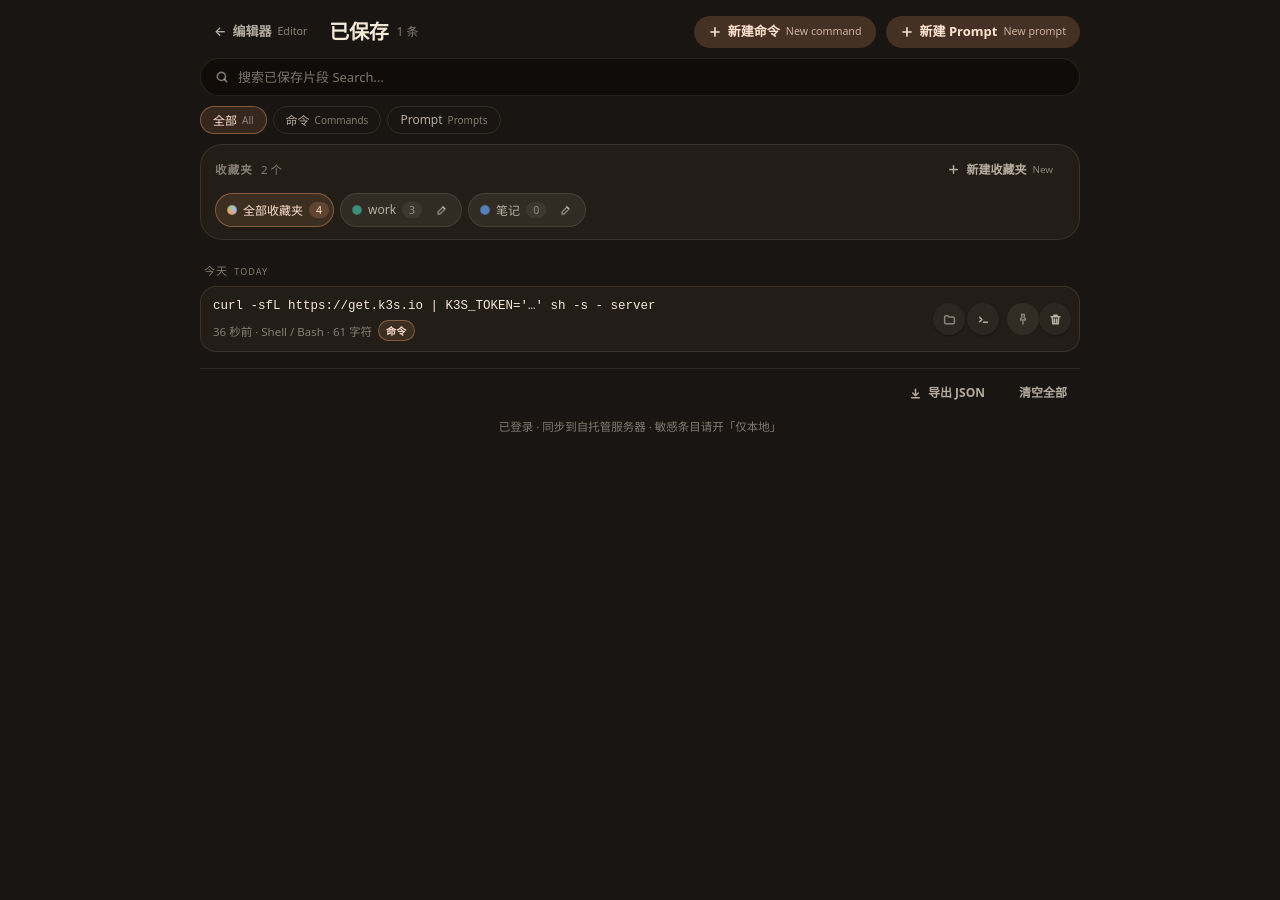
Test case: SavedPage（收藏夹管理，云端模式） › 新建收藏夹：重名等失败就地报错且对话框不关闭
This screenshot has width=1280, height=900.
Click the button "新建收藏夹 New" at x=1000, y=170, box x1=935 y1=157 x2=1065 y2=183
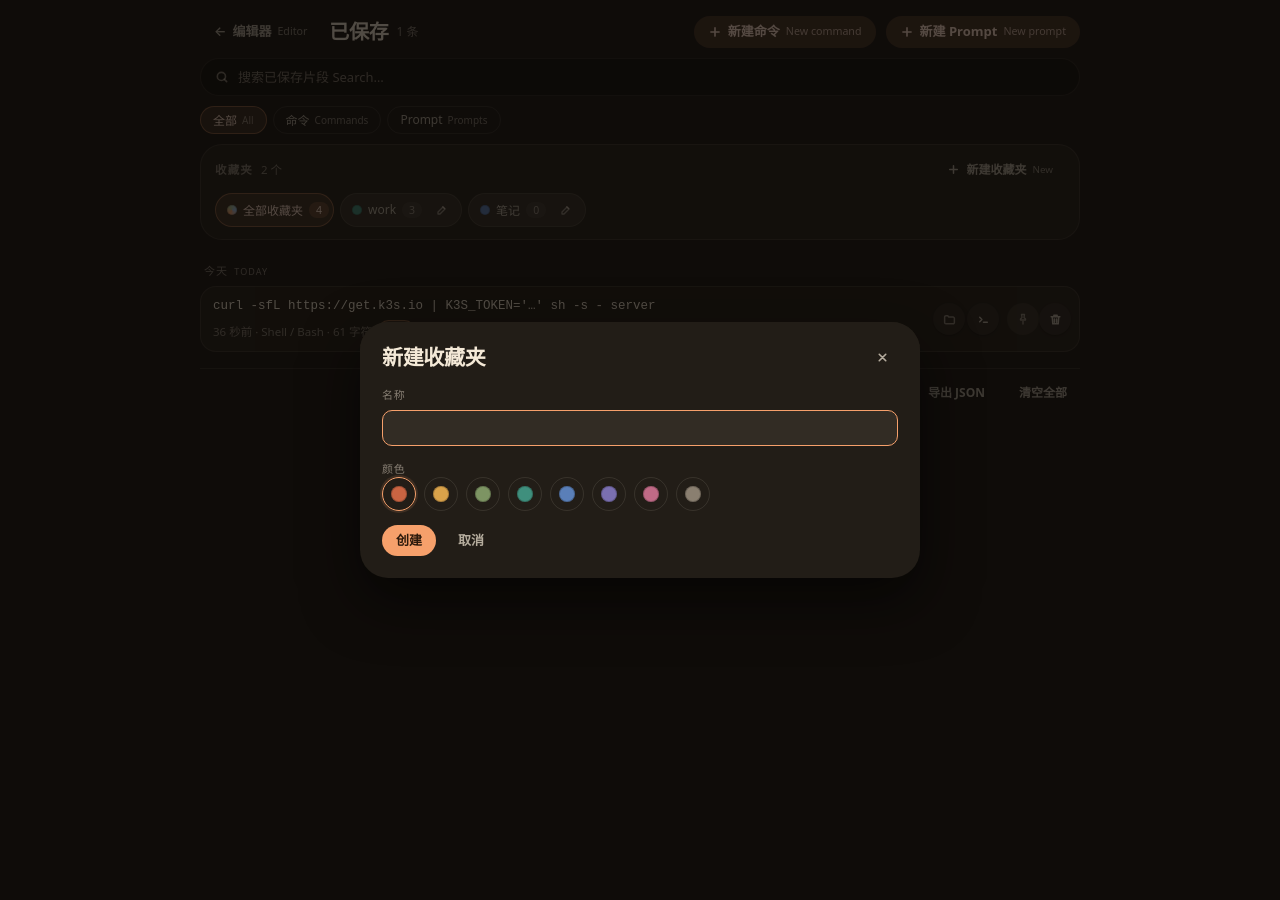
Type "work" into the field labelled "名称" at x=640, y=428, box x1=382 y1=410 x2=898 y2=446
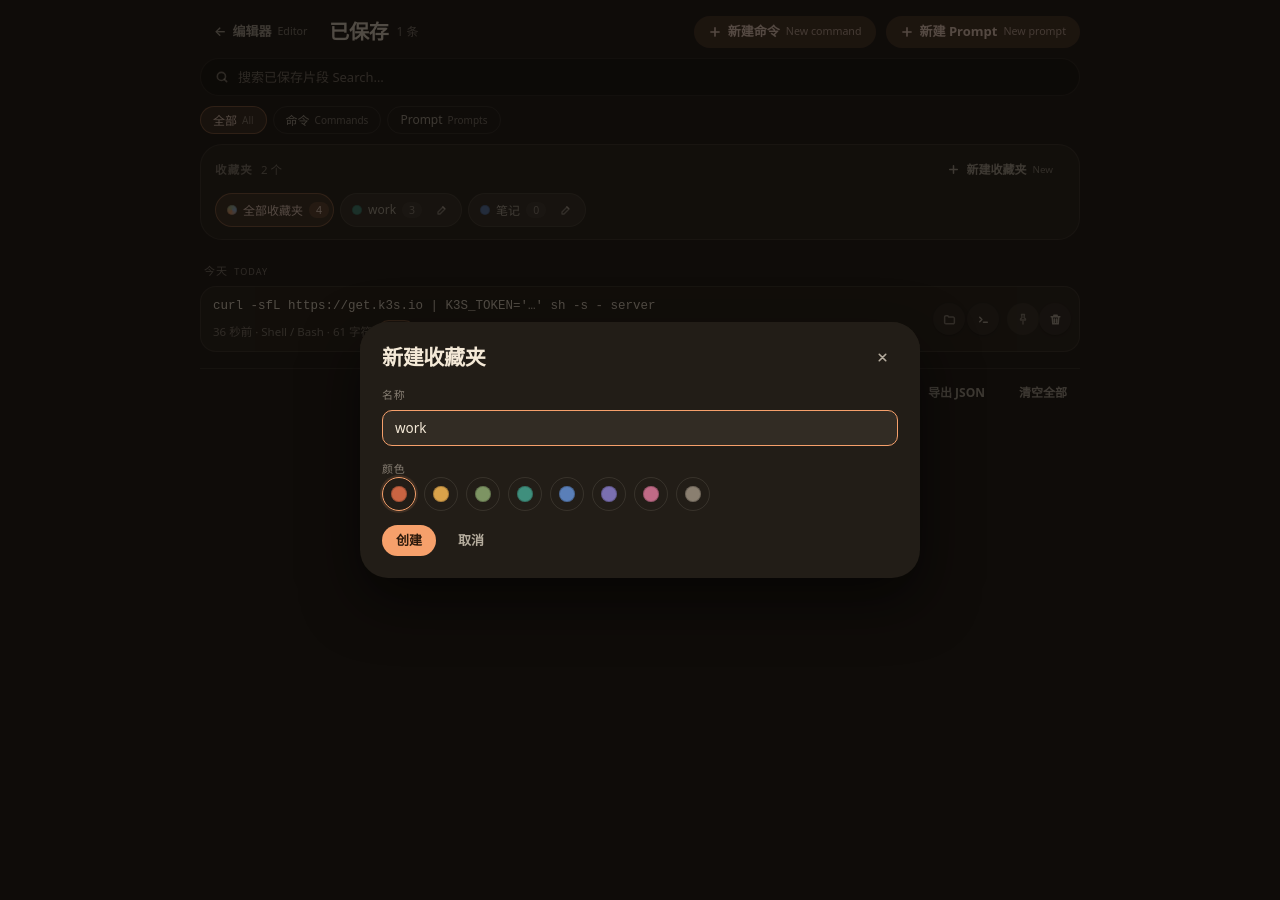
Click the button "创建" at x=409, y=541, box x1=382 y1=525 x2=436 y2=556
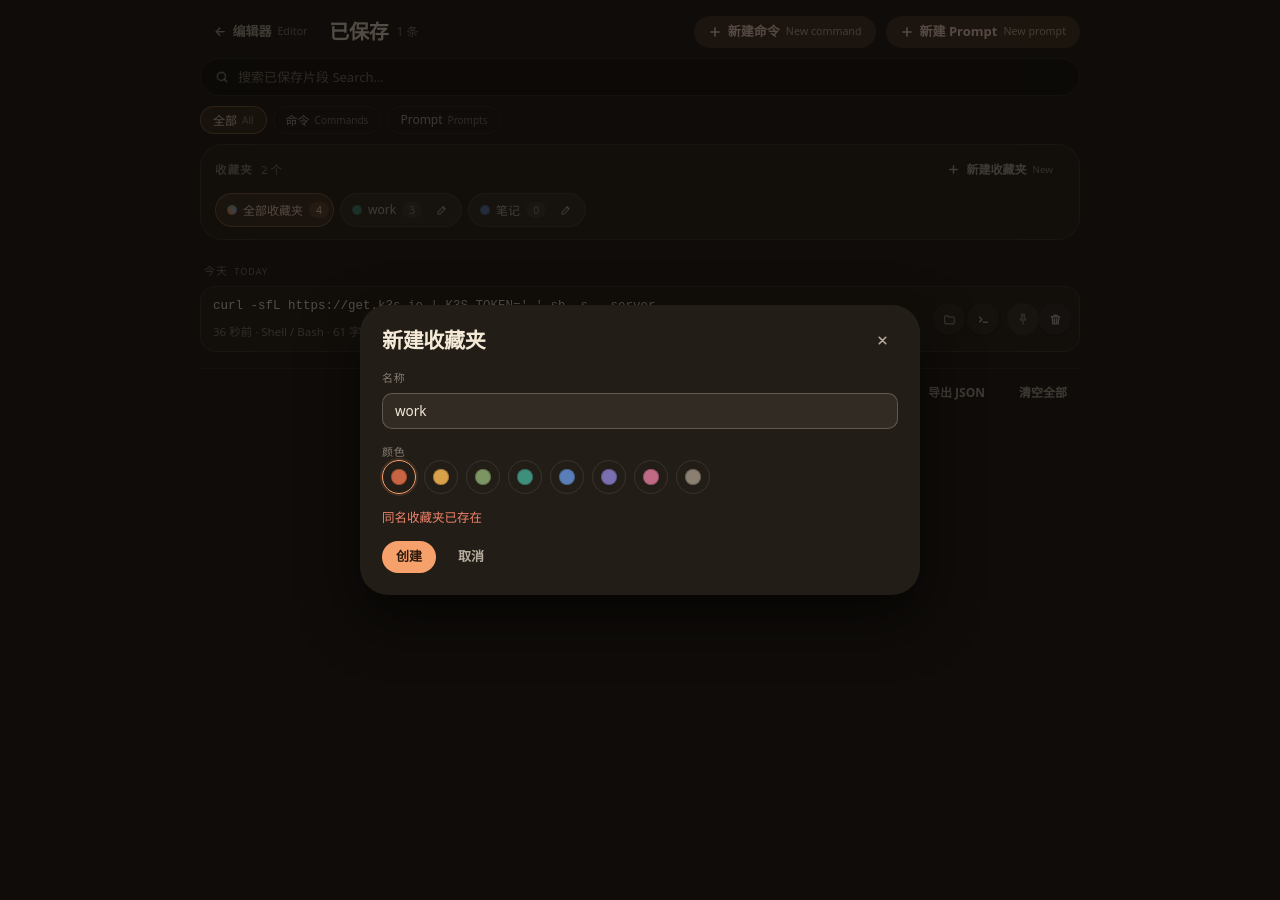
Expected: the dialog "新建收藏夹" is shown, x1=360 y1=305 x2=920 y2=595
Expected: the message reads "同名收藏夹已存在", x1=382 y1=509 x2=482 y2=526
